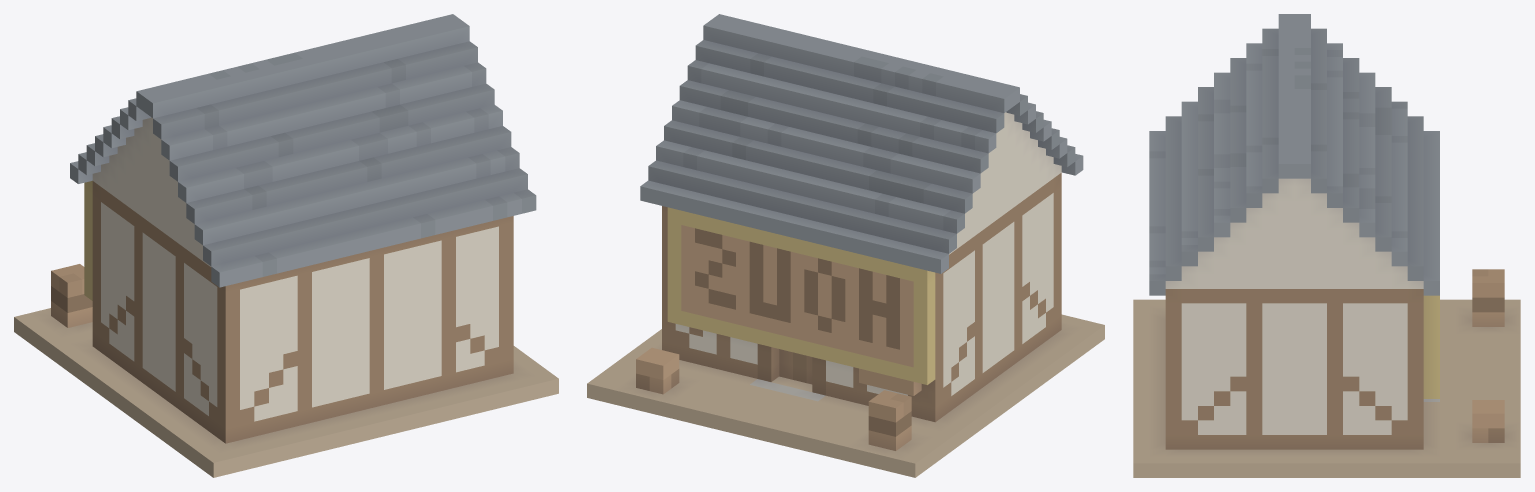
File: house_merchants.glb
The picture shows the model from 3 angles, left to right: view 1: azimuth 30°, elevation 25°; view 2: azimuth 150°, elevation 25°; view 3: azimuth 270°, elevation 25°; orthographic projection. The views are drawn at different scales.
Parts seen in each view (by area): view 1: house_merchants; view 2: house_merchants; view 3: house_merchants.
Part boxes in pixels (box(x1,y1,x2,y2)): house_merchants: box(14, 14, 558, 477); house_merchants: box(587, 14, 1104, 477); house_merchants: box(1133, 14, 1520, 477).
Size of the model in its own units: 3 by 2.62 by 3.
